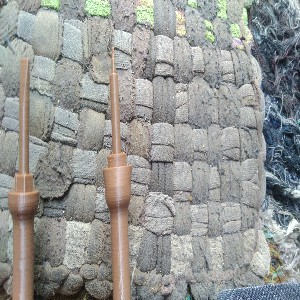obeng: (6, 57, 40, 300)
solder: (102, 45, 133, 300)
